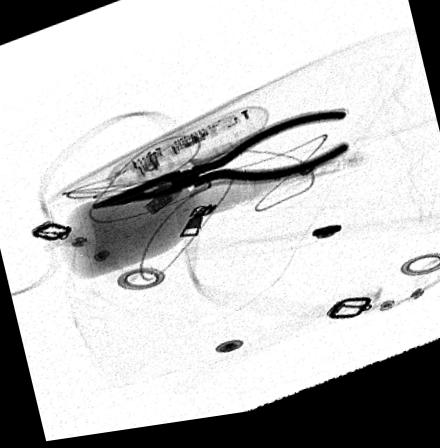Pliers: (87, 118, 356, 214)
